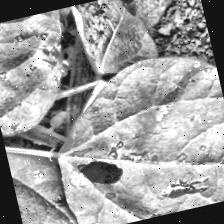ALS: (49, 58, 224, 224), (0, 6, 99, 137), (72, 0, 169, 81), (4, 133, 77, 224)
